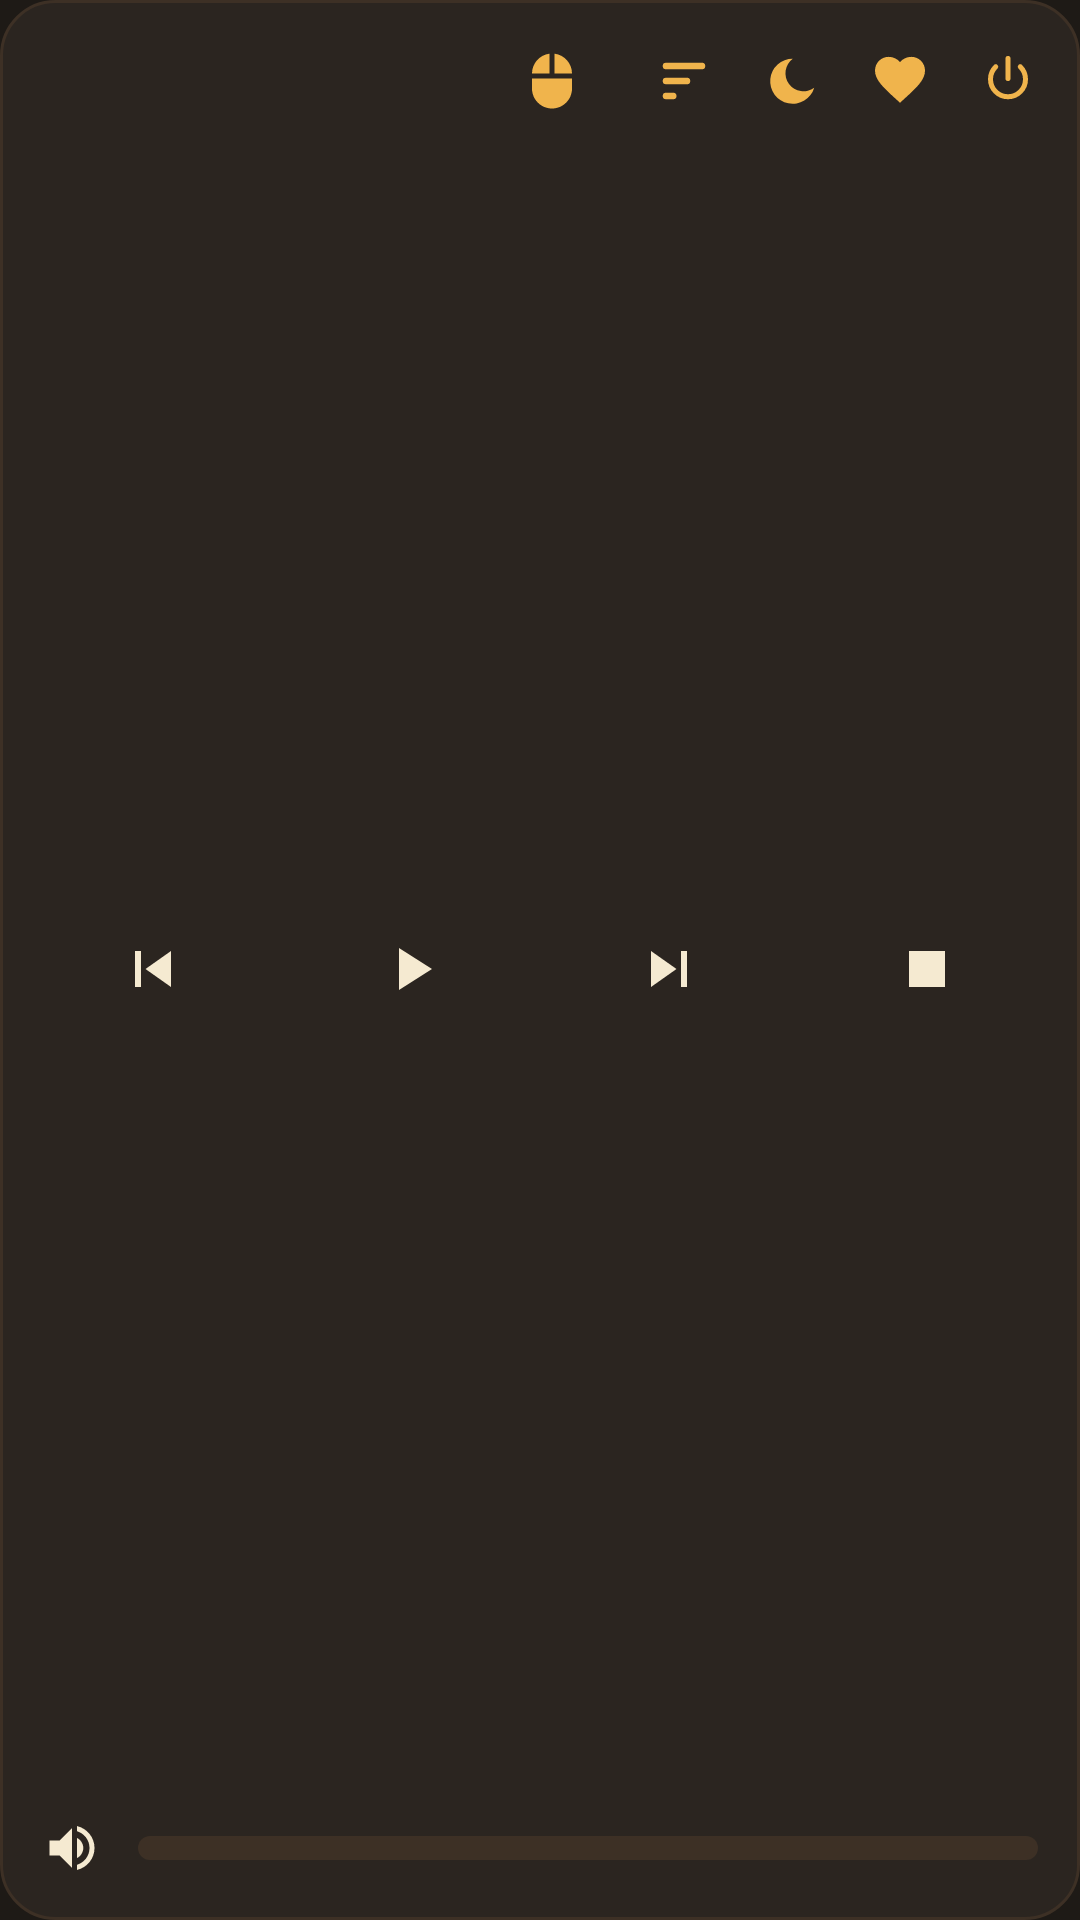

Icons on this 1080w x 1920h Android screen, each with the point to tap as (x=x, y=y):
Nasledujúca: (x=669, y=969)
Predchádzajúca: (x=153, y=969)
Prehrať alebo pauza: (x=415, y=969)
Stlmiť alebo vrátiť hlasitosť: (x=72, y=1848)
Touchpad pre počítač: (x=552, y=81)
Uspať počítač: (x=792, y=81)
Vypnúť počítač: (x=1008, y=78)
